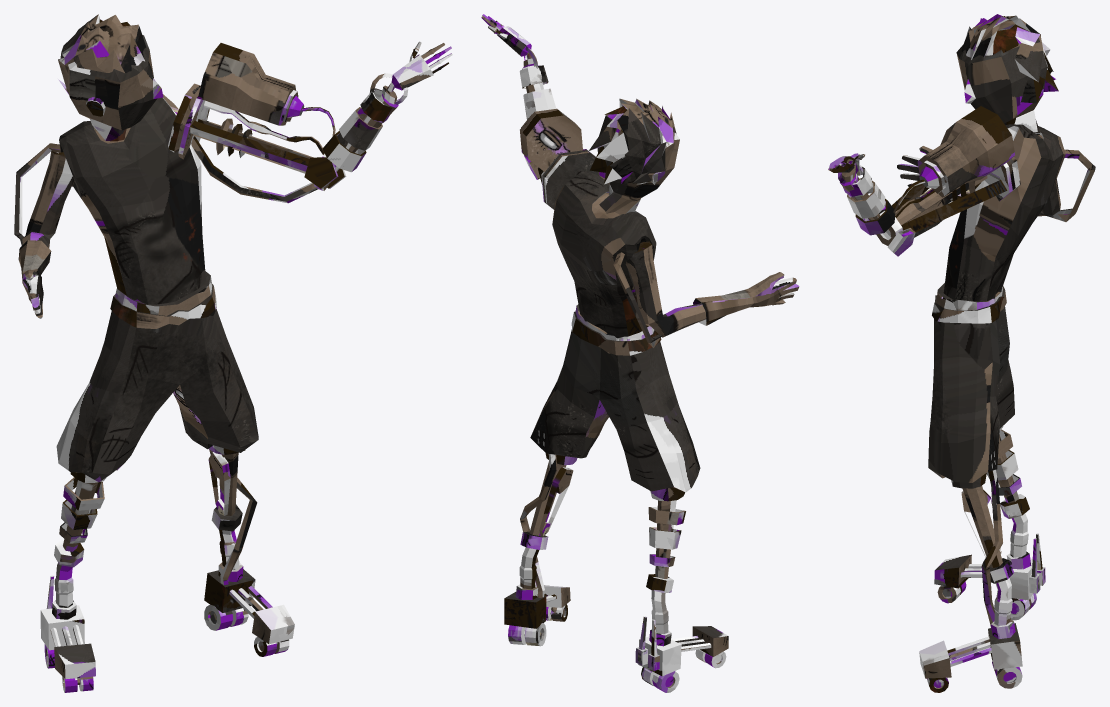
File: CyborgFINALAnimation_000049.obj
The picture shows the model from 3 angles, left to right: view 1: azimuth 30°, elevation 25°; view 2: azimuth 150°, elevation 25°; view 3: azimuth 270°, elevation 25°; orthographic projection. The views are drawn at different scales.
Parts seen in each view (by area): view 1: CyborgMesh_Cube.002; view 2: CyborgMesh_Cube.002; view 3: CyborgMesh_Cube.002.
Part boxes in pixels (<box>): CyborgMesh_Cube.002: <box>14,14,452,692</box>; CyborgMesh_Cube.002: <box>481,14,799,692</box>; CyborgMesh_Cube.002: <box>828,14,1095,692</box>.
Size of the model in its own units: 5.99 by 9.54 by 3.77.
